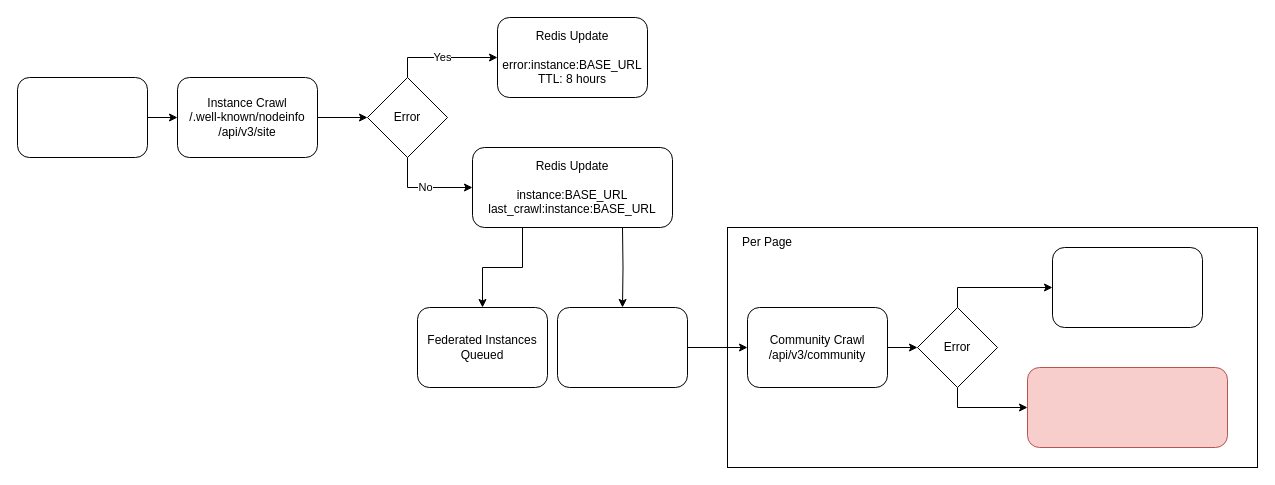
This 1275x485 diagram has some shape labels left out. The centre of each missing label's shape, as x and y in pixels:
"Communities Queued" belongs at (x=622, y=347).
"Instance Queued" belongs at (x=82, y=117).
"Redis Update community:BASE_URL:NAME last_crawl:community:BASE_URL" belongs at (x=1127, y=407).
"Redis Update error:community:BASE_URL TTL: 8 hours" belongs at (x=1127, y=287).
